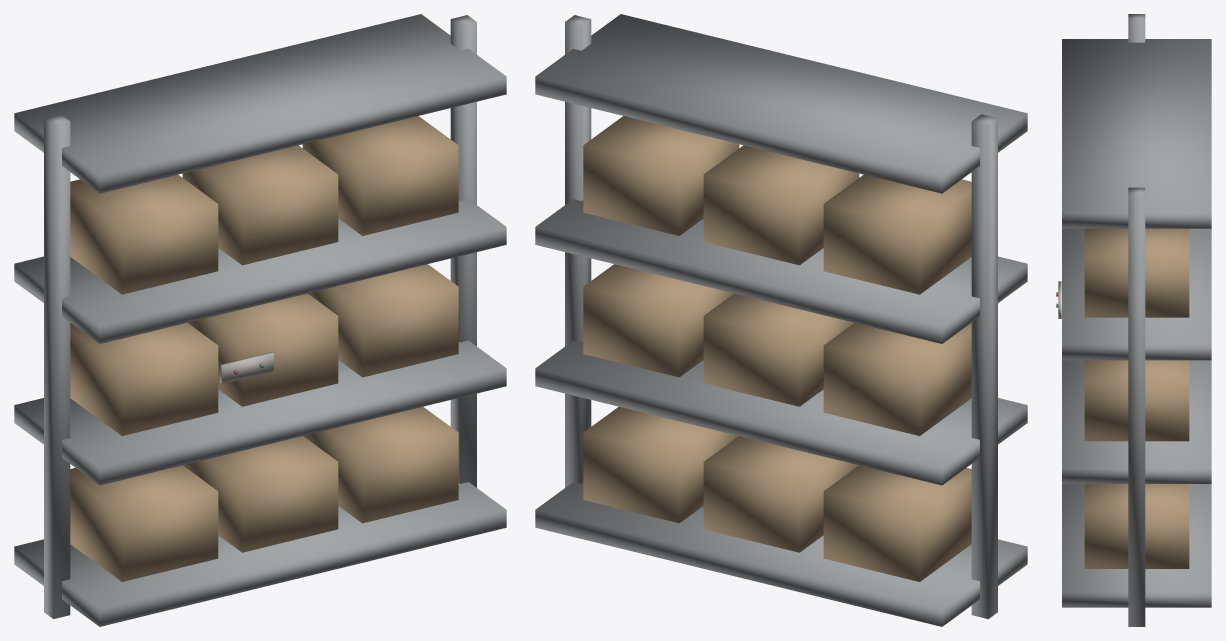
The model's file is warehouse_pallet_rack__tall.glb.
3 renders of one model, left to right at view 1: azimuth 30°, elevation 25°; view 2: azimuth 150°, elevation 25°; view 3: azimuth 270°, elevation 25°, orthographic. The views are drawn at different scales.
Visible parts, largest first — view 1: world; view 2: world; view 3: world.
Part boxes in pixels (bbox=[...]): world: bbox=[14, 14, 506, 626]; world: bbox=[535, 14, 1027, 626]; world: bbox=[1056, 14, 1211, 626].
Size of the model in its own units: 2.29 by 2.55 by 0.831.
